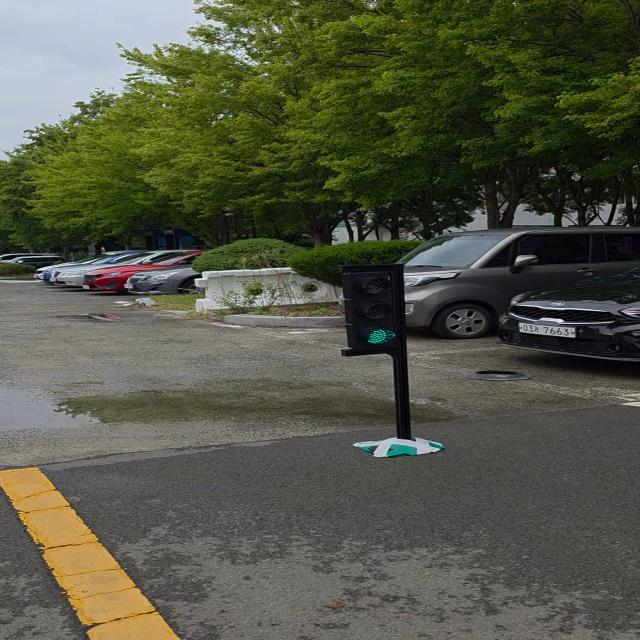green: (345, 266, 412, 356)
